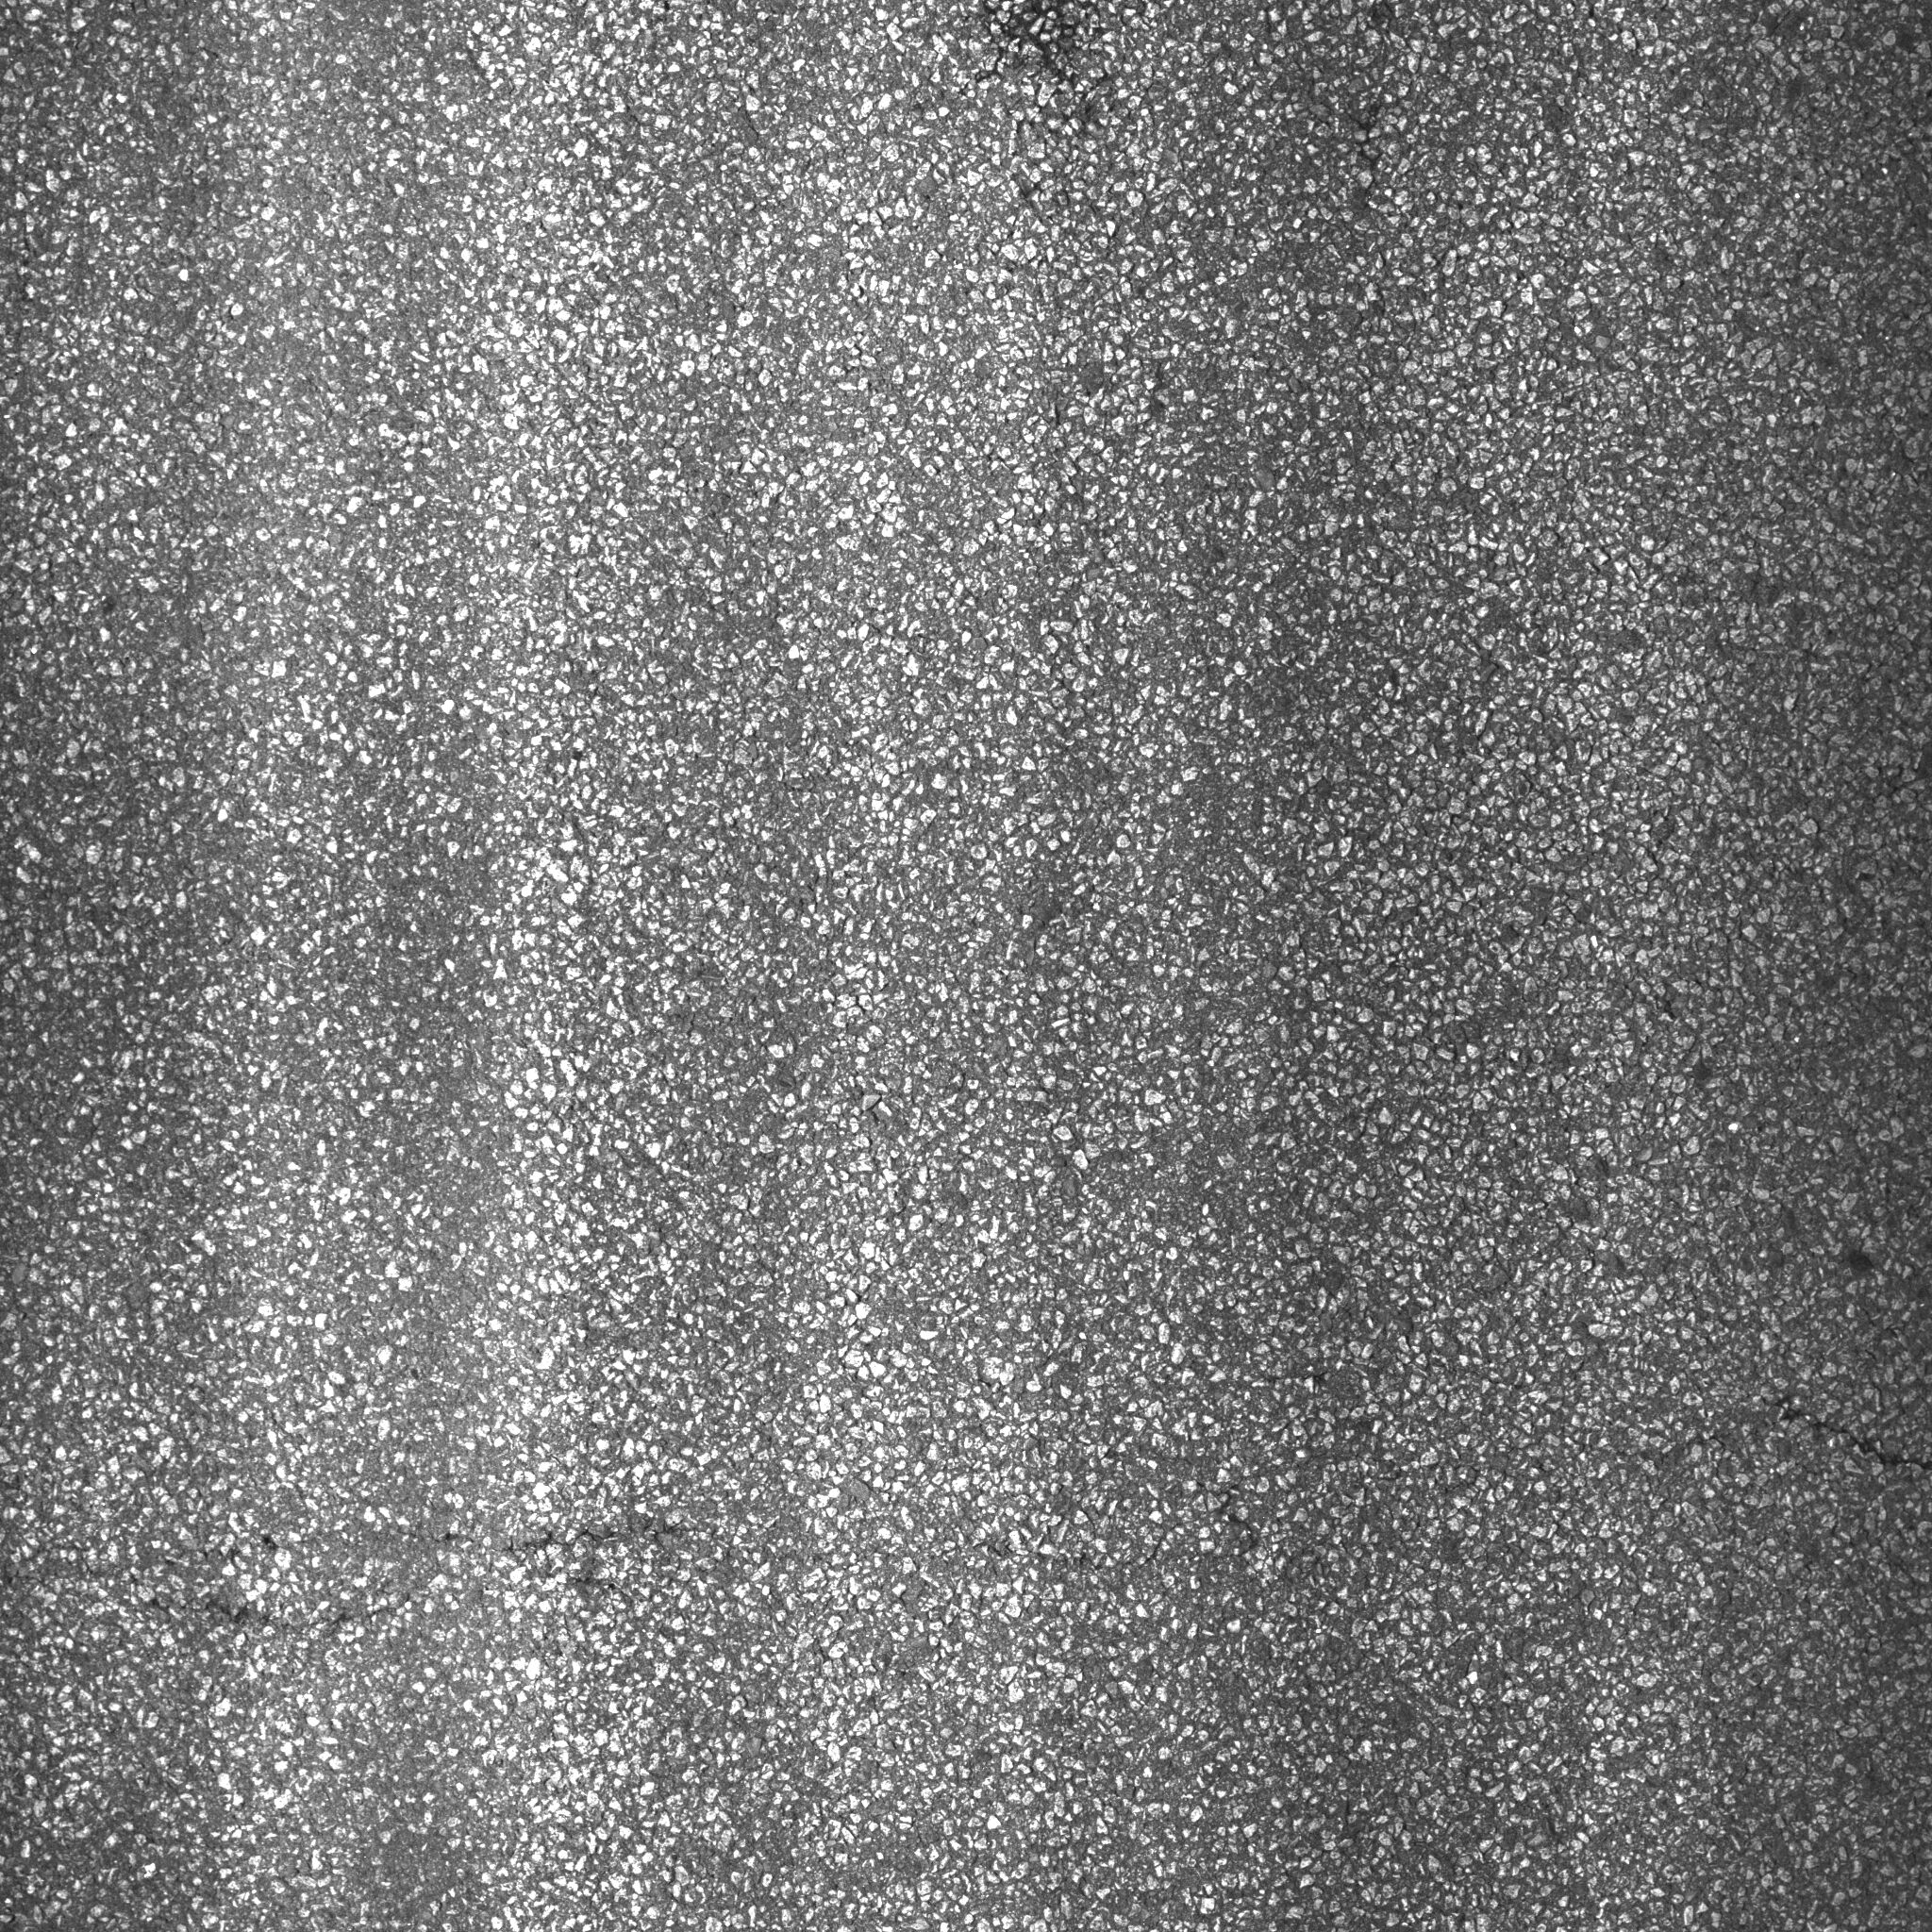transeverse: (41, 1488, 685, 1672), (1718, 1366, 1932, 1484)
